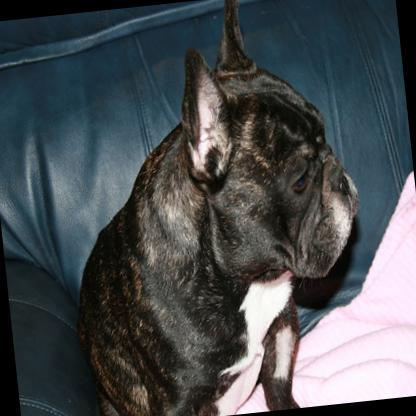French_bulldog: (39, 0, 380, 416)
